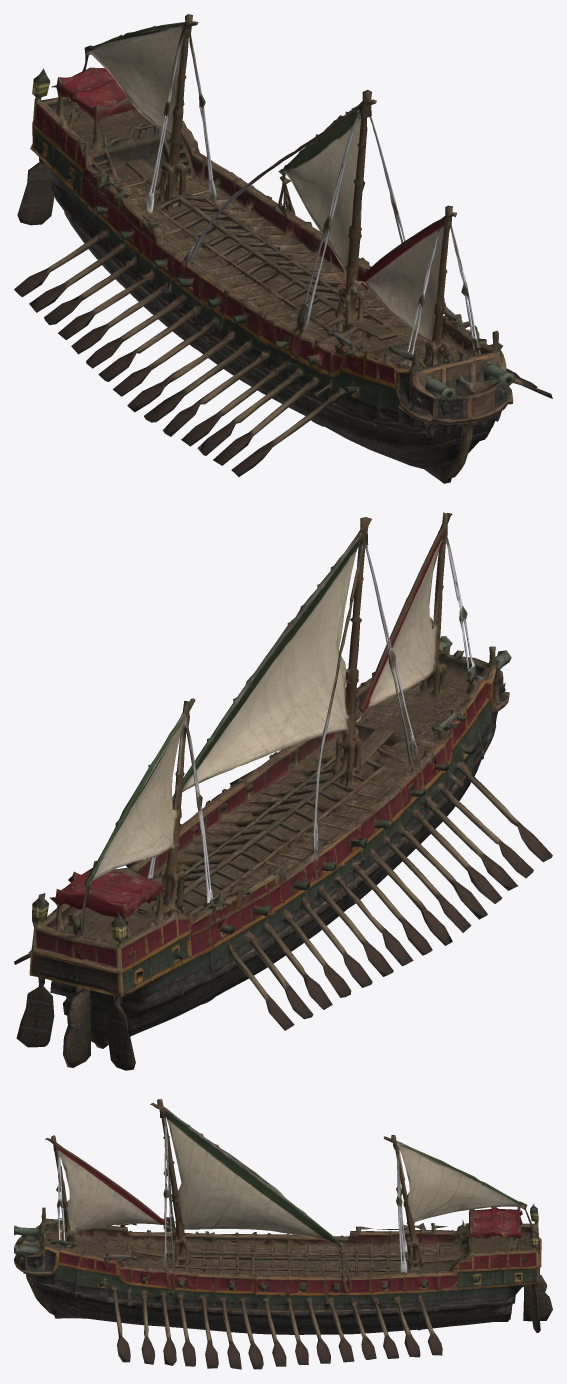
File: mavna-1550-1600-tripo-v1.glb
The picture shows the model from 3 angles, top to bottom: view 1: azimuth 30°, elevation 25°; view 2: azimuth 150°, elevation 25°; view 3: azimuth 270°, elevation 25°; orthographic projection. The views are drawn at different scales.
Visible parts, largest first — view 1: tripo_node_63f34804-c1ba-498a-8522-b5cb6155dafe; view 2: tripo_node_63f34804-c1ba-498a-8522-b5cb6155dafe; view 3: tripo_node_63f34804-c1ba-498a-8522-b5cb6155dafe.
Boxes of the visible parts, bbox=[...] form: tripo_node_63f34804-c1ba-498a-8522-b5cb6155dafe: bbox=[14, 14, 552, 483]; tripo_node_63f34804-c1ba-498a-8522-b5cb6155dafe: bbox=[14, 512, 552, 1070]; tripo_node_63f34804-c1ba-498a-8522-b5cb6155dafe: bbox=[14, 1099, 552, 1369].
Size of the model in its own units: 0.4567 by 0.4623 by 1.
1 material, 1 textured.
